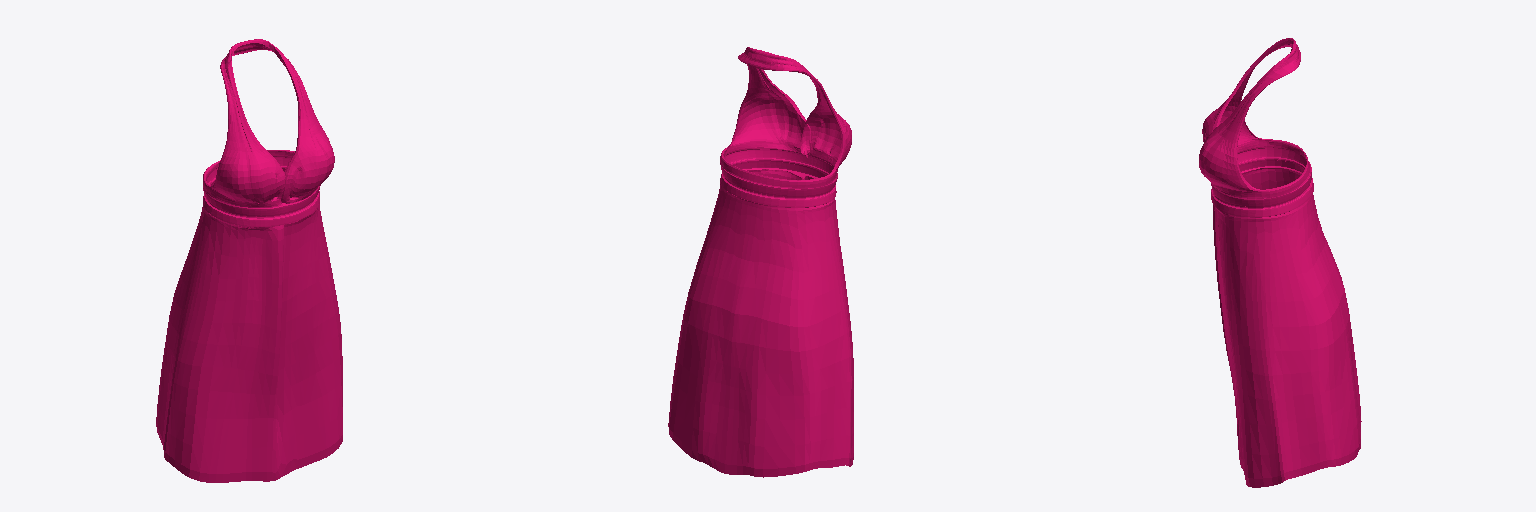
File: changqun2.obj
3 renders of one model, left to right at view 1: azimuth 30°, elevation 25°; view 2: azimuth 150°, elevation 25°; view 3: azimuth 270°, elevation 25°, orthographic.
Parts seen in each view (by area): view 1: changqun; view 2: changqun; view 3: changqun.
Boxes of the visible parts, <box> form: changqun: <box>156,39,342,482</box>; changqun: <box>668,47,853,477</box>; changqun: <box>1199,38,1361,487</box>.
Size of the model in its own units: 2.76 by 6.4 by 2.24.